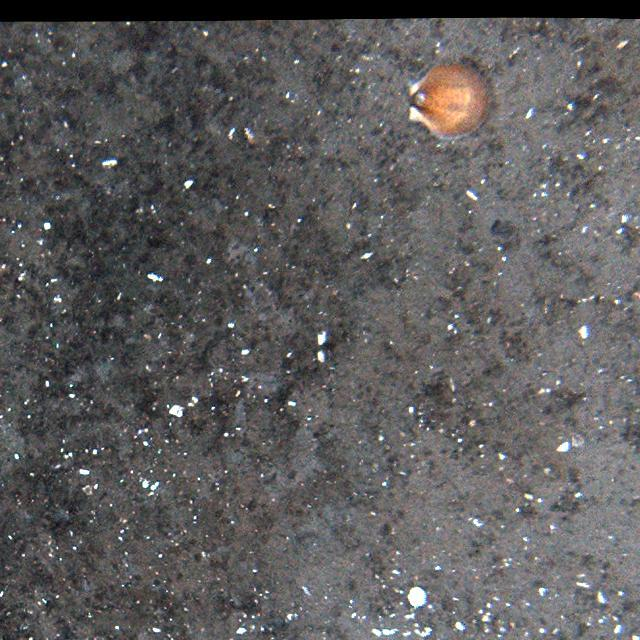scallop: (407, 59, 491, 139)
